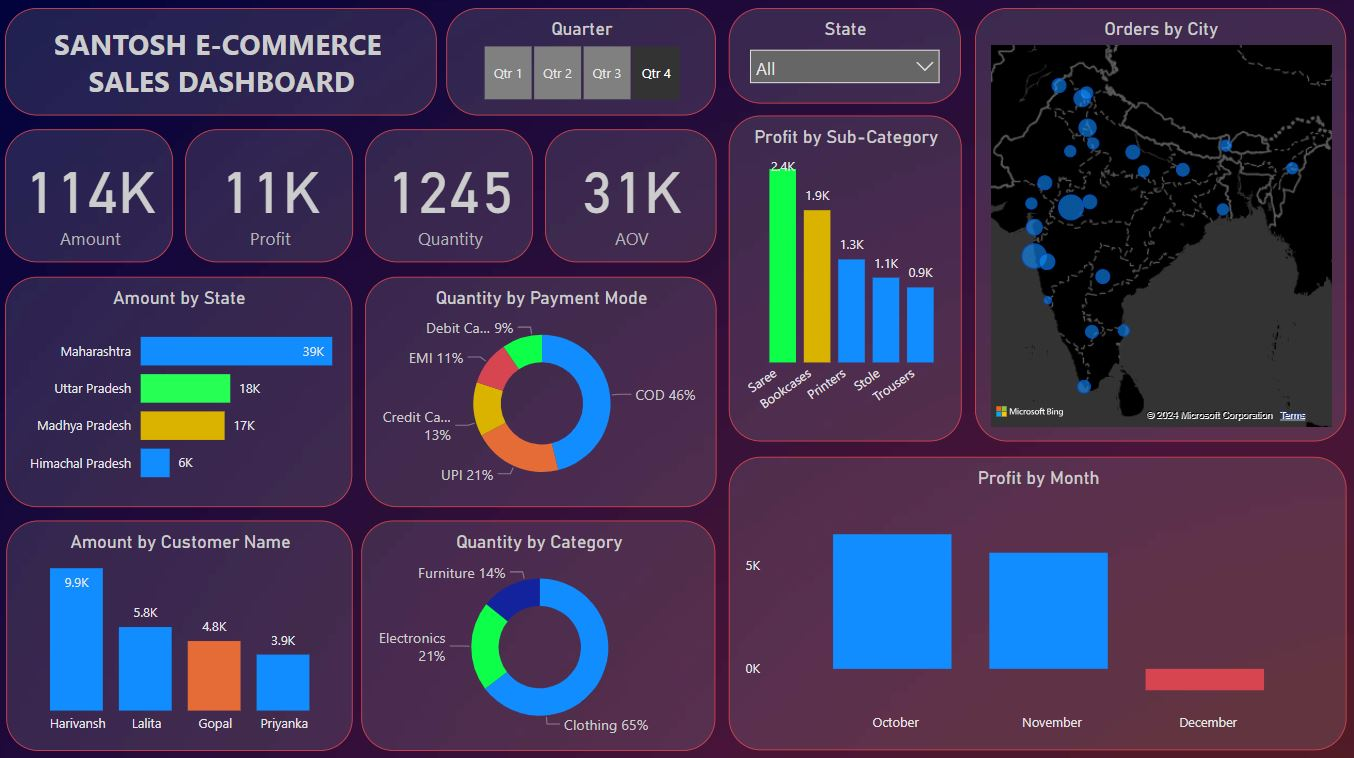

The dashboard page shown, as its layout file describes it:
{"tool":"powerbi","page":{"name":"Page 1","canvas":[1280,720],"ordinal":0},"visuals":[{"type":"textbox","box":[9.9,14.2,404.7,100.8],"z":0},{"type":"columnChart","fields":{"Y":["Sum(Details.Profit)"],"Category":["Orders.Order Date.Variation.Date Hierarchy.Month"]},"box":[687.3,434.6,579.4,275.5],"z":1000},{"type":"columnChart","fields":{"Category":["Details.Sub-Category"],"Y":["Sum(Details.Profit)"]},"box":[687.3,115,218.7,305.3],"z":2000},{"type":"donutChart","fields":{"Category":["Details.Category"],"Y":["Sum(Details.Quantity)"]},"box":[343.7,494.2,332.3,215.9],"z":3000},{"type":"donutChart","fields":{"Y":["Sum(Details.Quantity)"],"Category":["Details.PaymentMode"]},"box":[346.5,265.6,329.5,215.9],"z":4000},{"type":"card","fields":{"Values":["Sum(Details.Amount)"]},"box":[9.9,127.8,157.6,125],"z":5000},{"type":"card","fields":{"Values":["Sum(Details.Profit)"]},"box":[178.5,127.8,157.6,125],"z":6000},{"type":"card","fields":{"Values":["Sum(Details.Quantity)"]},"box":[347,127.8,157.6,125],"z":7000},{"type":"card","fields":{"Values":["Sum(Details.AOV)"]},"box":[515.5,127.8,160.5,125],"z":8000},{"type":"barChart","fields":{"Category":["Orders.State"],"Y":["Sum(Details.Amount)"]},"box":[9.9,265.6,325.2,215.9],"z":9000},{"type":"columnChart","fields":{"Category":["Orders.Customer Name"],"Y":["Sum(Details.Amount)"]},"box":[10,494.2,325,216],"z":10000},{"type":"slicer","title":"Quarter","fields":{"Values":["Orders.Order Date.Variation.Date Hierarchy.Quarter"]},"box":[423.2,14.2,252.8,100.8],"z":11000},{"type":"slicer","title":"State","fields":{"Values":["Orders.State"]},"box":[687.3,14.2,217.3,89.5],"z":12000},{"type":"map","title":"Orders by City","fields":{"Category":["Orders.City"],"Size":["CountNonNull(Orders.Order ID)"]},"box":[918.8,14.2,347.9,406.2],"z":13000}]}

Visuals, with their boxes in screenshot pixels (x1, y1, x2, y2), scaled from the page's 1280x720 canvas onto the 1354x758 screenshot:
textbox: x1=10 y1=15 x2=439 y2=121
columnChart - Sum(Details.Profit) x Orders.Order Date.Variation.Date Hierarchy.Month: x1=727 y1=458 x2=1340 y2=748
columnChart - Details.Sub-Category x Sum(Details.Profit): x1=727 y1=121 x2=958 y2=442
donutChart - Details.Category x Sum(Details.Quantity): x1=364 y1=520 x2=715 y2=748
donutChart - Sum(Details.Quantity) x Details.PaymentMode: x1=367 y1=280 x2=715 y2=507
card - Sum(Details.Amount): x1=10 y1=135 x2=177 y2=266
card - Sum(Details.Profit): x1=189 y1=135 x2=356 y2=266
card - Sum(Details.Quantity): x1=367 y1=135 x2=534 y2=266
card - Sum(Details.AOV): x1=545 y1=135 x2=715 y2=266
barChart - Orders.State x Sum(Details.Amount): x1=10 y1=280 x2=354 y2=507
columnChart - Orders.Customer Name x Sum(Details.Amount): x1=11 y1=520 x2=354 y2=748
"Quarter" slicer: x1=448 y1=15 x2=715 y2=121
"State" slicer: x1=727 y1=15 x2=957 y2=109
"Orders by City" map: x1=972 y1=15 x2=1340 y2=443
